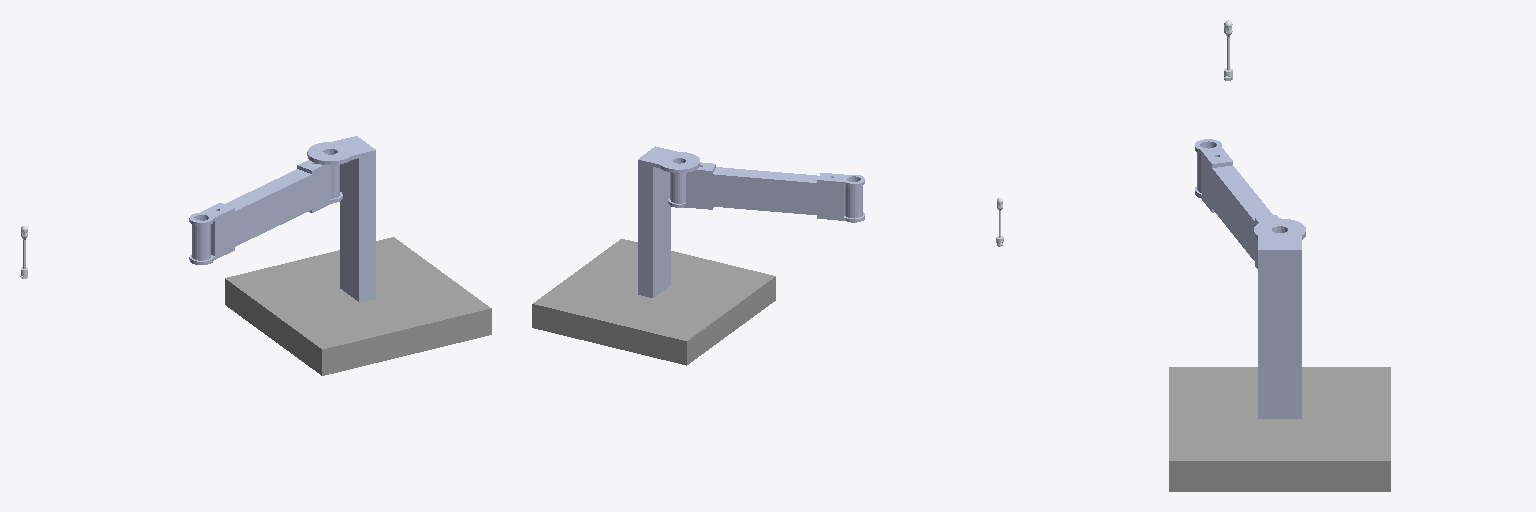
robot.urdf — final3:
<?xml version="1.0" encoding="utf-8"?>
<!-- This URDF was automatically created by SolidWorks to URDF Exporter! Originally created by [author] ([email redacted]) 
     Commit Version: 1.6.0-4-g7f85cfe  Build Version: 1.6.7995.38578
     For more information, please see http://wiki.ros.org/sw_urdf_exporter -->
<robot
  name="final3">
    <!-- KDL-safe root -->
  <link name="world_dummy"/>
  <joint name="world_to_stand" type="fixed">
    <parent link="world_dummy"/>
    <child  link="base_stand"/>
  </joint>

   <!-- base_stand -->
  <link name="base_stand">
    <inertial>
      <origin xyz="0 0 0" rpy="0 0 0"/>
      <mass value="15.0"/>
      <inertia ixx="0.2045" iyy="0.2045" izz="0.4000" ixy="0" ixz="0" iyz="0"/>
    </inertial>
    <visual>
      <origin xyz="0 0 -0.03" rpy="0 0 0"/>
      <geometry><box size="0.40 0.40 0.06"/></geometry>
      <material name="stand_gray"><color rgba="0.7 0.7 0.7 1"/></material>
    </visual>
  </link>

  <joint name="base_stand_fix" type="fixed">
    <origin xyz="0 0 0" rpy="0 0 0"/>
    <parent link="base_stand"/>
    <child  link="base_link"/>
  </joint>


  <link
    name="base_link">
    <inertial>
      <origin
        xyz="-0.00336427008800971 0 0.176177481833415"
        rpy="0 0 0" />
      <mass
        value="1.13227805038393" />
      <inertia
        ixx="0.0121531021222289"
        ixy="-3.59019259225343E-19"
        ixz="0.000587859098098468"
        iyy="0.0119525756112575"
        iyz="-2.78003552835926E-18"
        izz="0.00102146038185239" />
    </inertial>
    <visual>
      <origin
        xyz="0 0 0"
        rpy="0 0 0" />
      <geometry>
        <mesh
          filename="package://final3/meshes/base_link.STL" />
      </geometry>
      <material
        name="">
        <color
          rgba="0.792156862745098 0.819607843137255 0.933333333333333 1" />
      </material>
    </visual>
    <collision>
      <origin
        xyz="0 0 0"
        rpy="0 0 0" />
      <geometry>
        <mesh
          filename="package://final3/meshes/base_link.STL" />
      </geometry>
    </collision>
  </link>
  <link
    name="l1">
    <inertial>
      <origin
        xyz="-0.189428590016577 -0.064162366573651 5.55111512312578E-17"
        rpy="0 0 0" />
      <mass
        value="1.3016523193261" />
      <inertia
        ixx="0.00219848452395246"
        ixy="-0.00342968551632687"
        ixz="4.82758823424816E-18"
        iyy="0.011162366813926"
        iyz="1.70485902643459E-18"
        izz="0.0116571619649917" />
    </inertial>
    <visual>
      <origin
        xyz="0 0 0"
        rpy="0 0 0" />
      <geometry>
        <mesh
          filename="package://final3/meshes/l1.STL" />
      </geometry>
      <material
        name="">
        <color
          rgba="0.792156862745098 0.819607843137255 0.933333333333333 1" />
      </material>
    </visual>
    <collision>
      <origin
        xyz="0 0 0"
        rpy="0 0 0" />
      <geometry>
        <mesh
          filename="package://final3/meshes/l1.STL" />
      </geometry>
    </collision>
  </link>
  <joint
    name="j1"
    type="revolute">
    <origin
      xyz="-0.065 0 0.278"
      rpy="0 0 0" />
    <parent
      link="base_link" />
    <child
      link="l1" />
    <axis
      xyz="0 0 -1" />
    <limit lower="-1.57" upper="1.57" effort="50" velocity="1.5"/>
    <dynamics damping="0.0" friction="0.0"/>
  </joint>
  <link
    name="l2">
    <inertial>
      <origin
        xyz="-0.323439138443078 0.0292504033924335 0.0100322732874896"
        rpy="0 0 0" />
      <mass
        value="3.6875217386648" />
      <inertia
        ixx="0.0014809901425467"
        ixy="0.00089641488545978"
        ixz="-1.00733265699137E-07"
        iyy="0.0114085095981645"
        iyz="5.98503904057003E-07"
        izz="0.0120439794121417" />
    </inertial>
    <visual>
      <origin
        xyz="0 0 0"
        rpy="0 0 0" />
      <geometry>
        <mesh
          filename="package://final3/meshes/l2.STL" />
      </geometry>
      <material
        name="">
        <color
          rgba="0.792156862745098 0.819607843137255 0.933333333333333 1" />
      </material>
    </visual>
    <collision>
      <origin
        xyz="0 0 0"
        rpy="0 0 0" />
      <geometry>
        <mesh
          filename="package://final3/meshes/l2.STL" />
      </geometry>
    </collision>
  </link>
  <joint
    name="j2"
    type="revolute">
    <origin
      xyz="-0.37876 -0.12724 -0.0935"
      rpy="0 0 0" />
    <parent
      link="l1" />
    <child
      link="l2" />
    <axis
      xyz="0 0 1" />
    <limit lower="-3.14" upper="3.14" effort="30" velocity="1.0"/>
    <dynamics damping="0.0" friction="0.0"/>
  </joint>
  <link
    name="pitch">
    <inertial>
      <origin
        xyz="-9.658E-05 -0.0010798 -5.4956E-15"
        rpy="0 0 0" />
      <mass
        value="0.0022646" />
      <inertia
        ixx="3.2092E-08"
        ixy="7.6869E-14"
        ixz="4.9764E-15"
        iyy="3.2093E-08"
        iyz="4.1593E-15"
        izz="4.6816E-08" />
    </inertial>
    <visual>
      <origin
        xyz="0 0 0"
        rpy="0 0 0" />
      <geometry>
        <mesh
          filename="package://final3/meshes/pitch.STL" />
      </geometry>
      <material
        name="">
        <color
          rgba="0.89804 0.91765 0.92941 1" />
      </material>
    </visual>
    <collision>
      <origin
        xyz="0 0 0"
        rpy="0 0 0" />
      <geometry>
        <mesh
          filename="package://final3/meshes/pitch.STL" />
      </geometry>
    </collision>
  </link>
  <joint
    name="pitch_j"
    type="revolute">
    <origin
      xyz="-0.39841 0.035635 0.0875"
      rpy="0 0 0" />
    <parent
      link="l2" />
    <child
      link="pitch" />
    <axis
      xyz="-0.99602 0.089087 0" />
    <limit lower="-0.6" upper="0.6" effort="25" velocity="1.5"/>
  </joint>
  <link
    name="roll">
    <inertial>
      <origin
        xyz="-2.3765E-09 -3.7085E-08 0.049659"
        rpy="0 0 0" />
      <mass
        value="0.014628" />
      <inertia
        ixx="4.8925E-06"
        ixy="-2.8915E-09"
        ixz="-1.7932E-13"
        iyy="4.8604E-06"
        iyz="-2.5938E-12"
        izz="3.3066E-07" />
    </inertial>
    <visual>
      <origin
        xyz="0 0 0"
        rpy="0 0 0" />
      <geometry>
        <mesh
          filename="package://final3/meshes/roll.STL" />
      </geometry>
      <material
        name="">
        <color
          rgba="0.89804 0.91765 0.92941 1" />
      </material>
    </visual>
    <collision>
      <origin
        xyz="0 0 0"
        rpy="0 0 0" />
      <geometry>
        <mesh
          filename="package://final3/meshes/roll.STL" />
      </geometry>
    </collision>
  </link>
  <joint
    name="roll_j"
    type="revolute">
    <origin
      xyz="-9.658E-05 -0.0010798 0"
      rpy="0 0 0" />
    <parent
      link="pitch" />
    <child
      link="roll" />
    <axis
      xyz="-0.089087 -0.99602 0" />
    <limit lower="-0.6" upper="0.6" effort="25" velocity="1.5"/>
  </joint>
</robot>

--- Facts derived from the render (not from the file) ---
The picture shows the robot from 3 angles, left to right: view 1: azimuth 30°, elevation 25°; view 2: azimuth 150°, elevation 25°; view 3: azimuth 270°, elevation 25°; orthographic projection.
Robot: final3 — 7 links, 6 joints (4 revolute, 2 fixed); root link world_dummy; default pose: all joints at 0.
Visible links, largest first — view 1: base_stand, l1, base_link; view 2: base_stand, l1, base_link; view 3: base_stand, base_link, l1.
Boxes of the visible links, x1,y1,x2,y2 form: base_stand: (225,237,491,375); l1: (189,153,342,264); base_link: (307,136,375,301); base_stand: (532,239,775,365); l1: (668,162,864,222); base_link: (638,146,699,297); base_stand: (1169,367,1390,491); base_link: (1254,218,1305,418); l1: (1195,139,1284,268).
Bounding box of the posed robot: 1.05 × 0.4 × 0.446 m (x, y, z).
Meshes: 5 distinct files referenced, 4 mesh visuals loaded (4 binary STL); not drawn: 1 (reference not matched to a file when rendering).